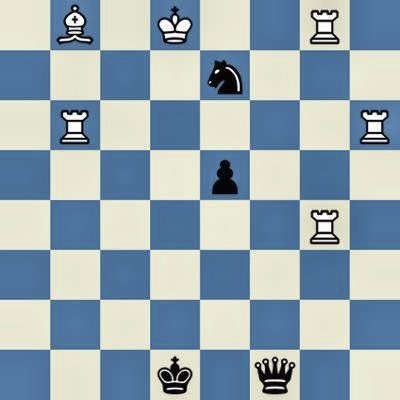black-king: (150, 350, 200, 400)
black-knight: (200, 50, 250, 100)
black-pawn: (200, 150, 250, 200)
black-queen: (250, 350, 300, 400)
white-bishop: (50, 0, 100, 50)
white-king: (150, 0, 200, 50)
white-rook: (300, 0, 350, 50), (50, 100, 100, 150), (350, 100, 400, 150), (300, 200, 350, 250)
